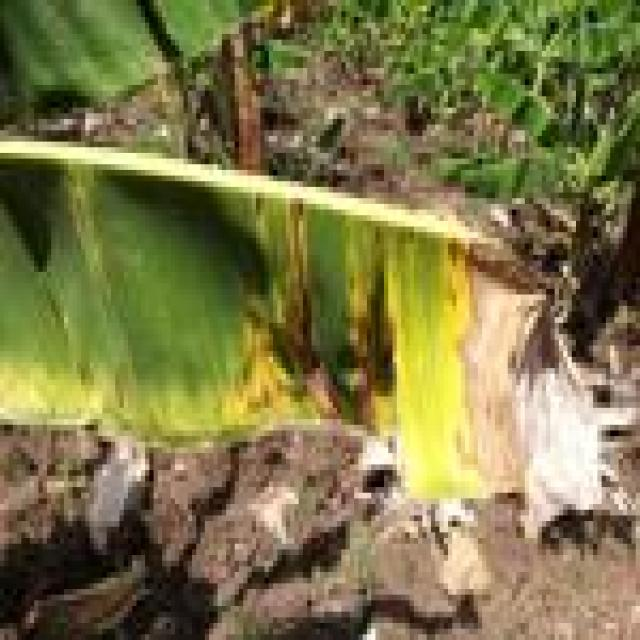Early_rust: (0, 108, 610, 532)
